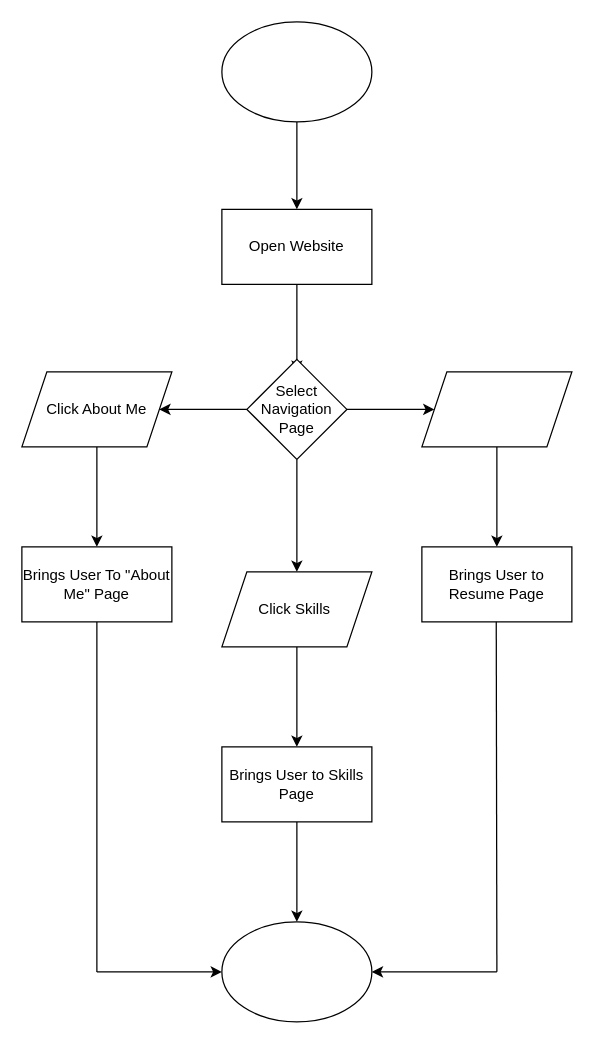
Some shapes in this 594 by 1044 pixel diagram are drawn without their labels. The shapes that lost their labels are listed below. From the top down, each one's centre as x and y in pixels, then its label:
point 296,71: Start
point 496,409: Click Resume
point 296,971: End
